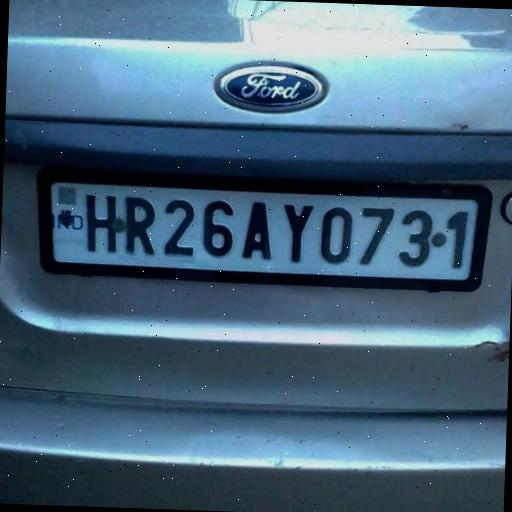number plate: (42, 170, 484, 286)
